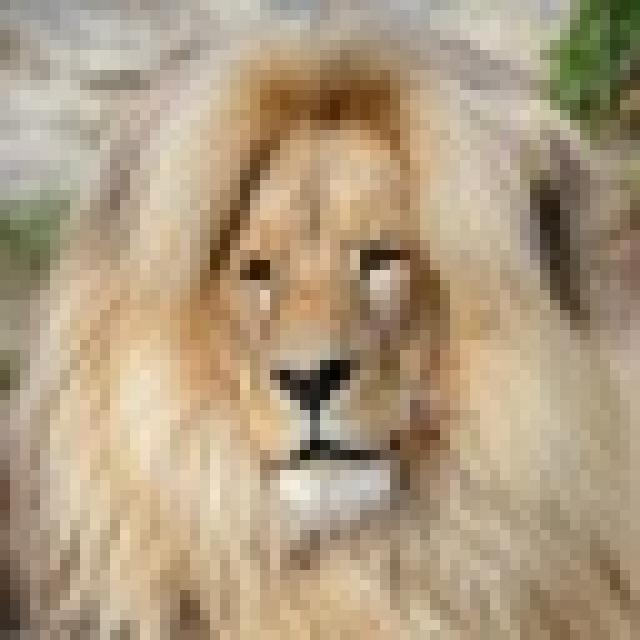Lion: (12, 18, 622, 630)
